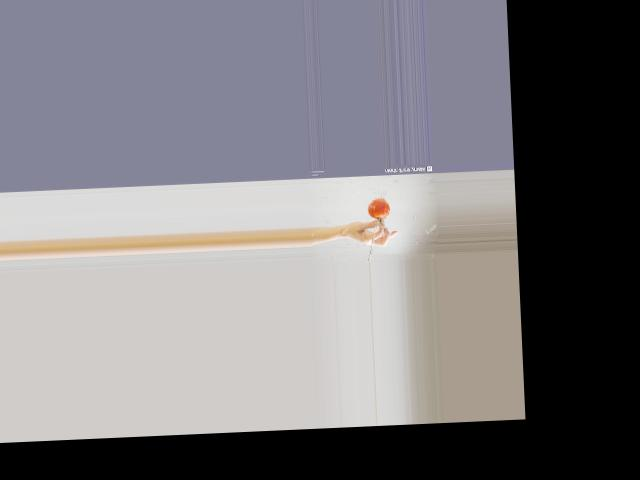tomato: (366, 197, 388, 218)
